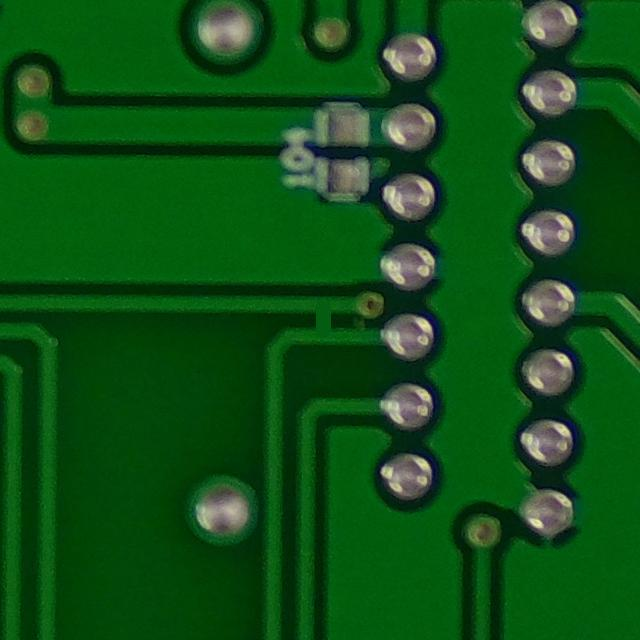short: (291, 289, 349, 351)
